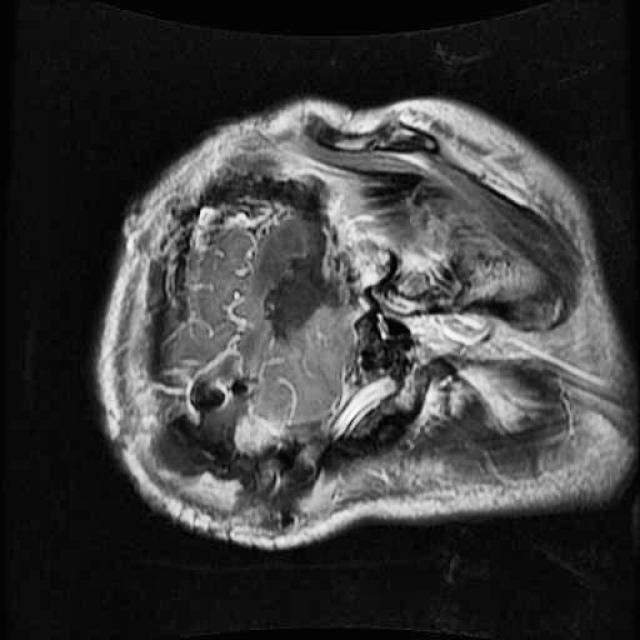Tumor: (138, 366, 334, 544)
